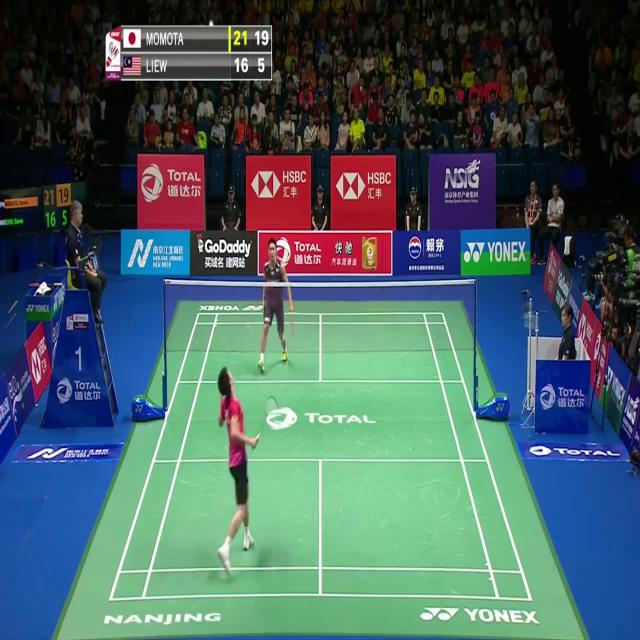Shuttlecock: (207, 16, 214, 28)
